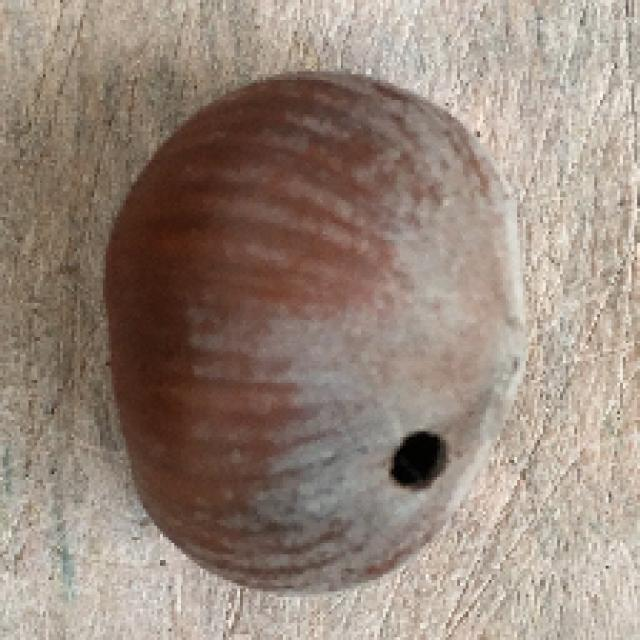damagedHazelnut: (98, 58, 535, 598)
